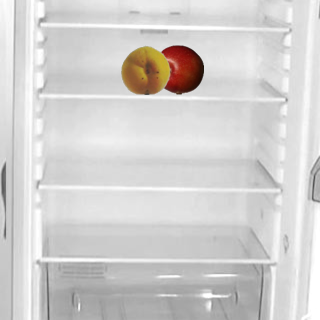Apple Braeburn: (153, 44, 203, 94)
Peach 2: (120, 44, 170, 94)
